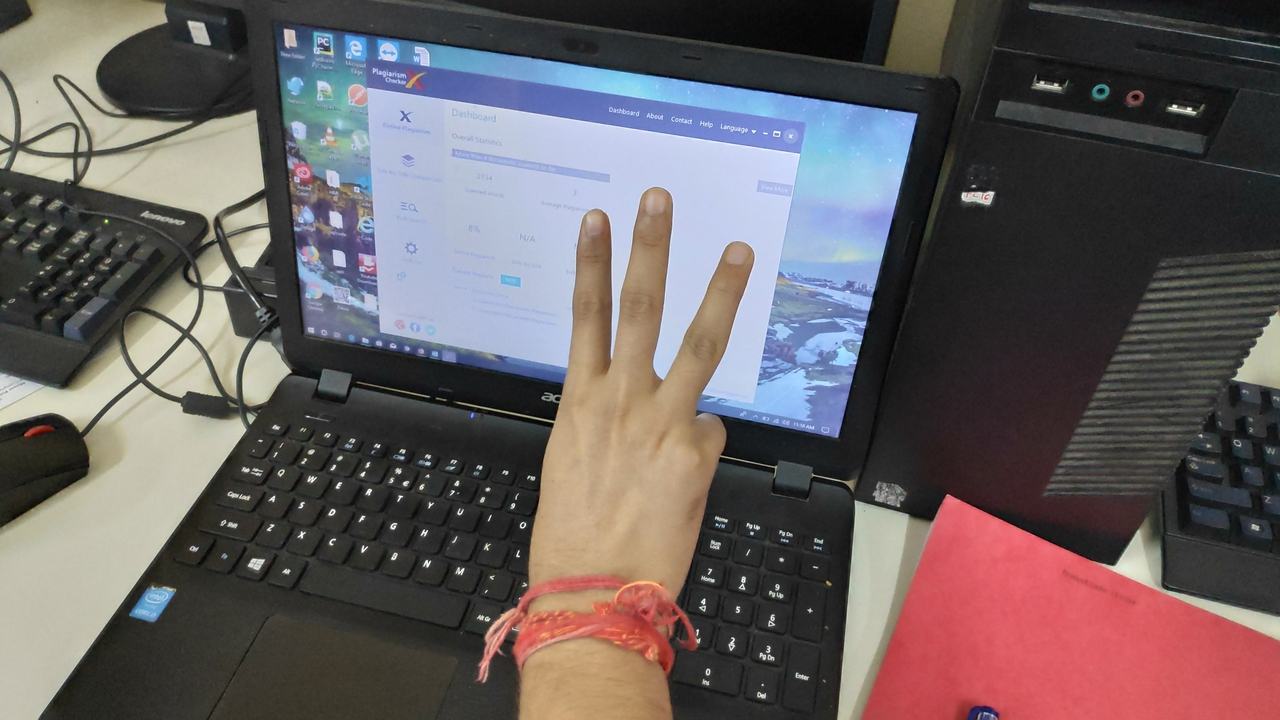fingertip: (704, 228, 762, 278), (626, 178, 680, 228), (566, 196, 618, 244)
